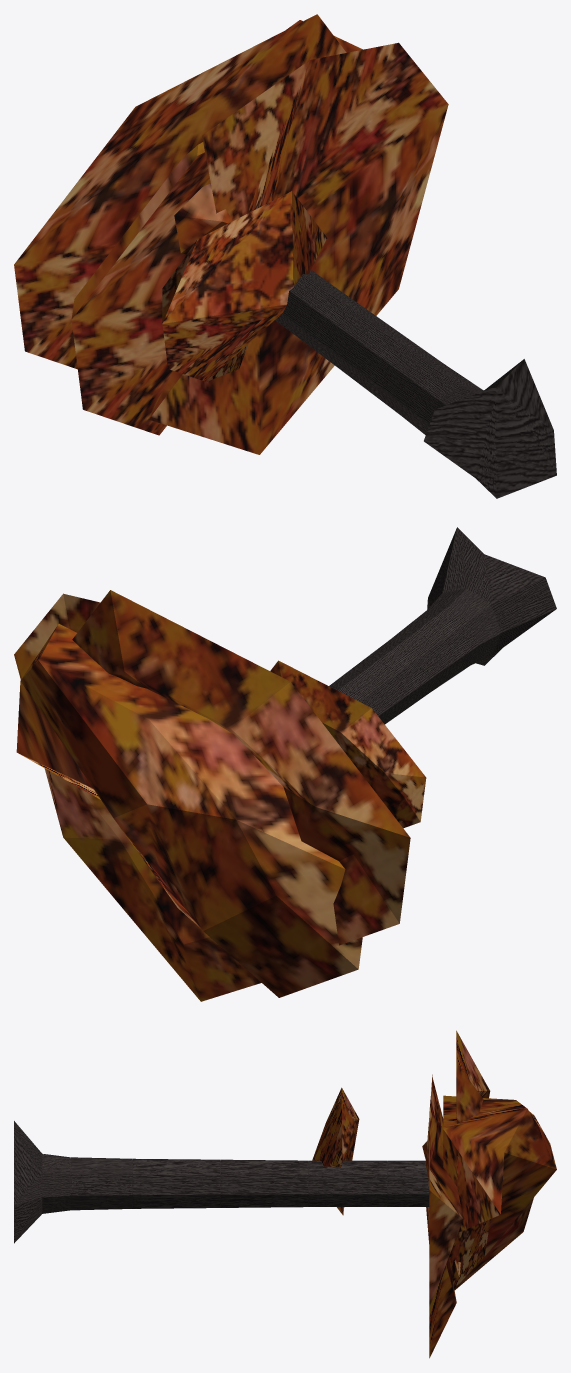
The model's file is Tree01.fbx.
3 renders of one model, top to bottom at view 1: azimuth 30°, elevation 25°; view 2: azimuth 150°, elevation 25°; view 3: azimuth 270°, elevation 25°, orthographic. The views are drawn at different scales.
Visible parts, largest first — view 1: TreeBark; view 2: TreeBark; view 3: TreeBark.
Part boxes in pixels (box(x1,y1,x2,y2)): TreeBark: box(14, 14, 556, 498); TreeBark: box(14, 527, 556, 1001); TreeBark: box(14, 1030, 556, 1358).
Bounding box in the file's own units: 1284 × 1205 × 1822.
